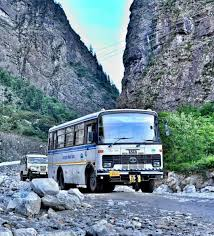bus: (45, 108, 166, 192)
